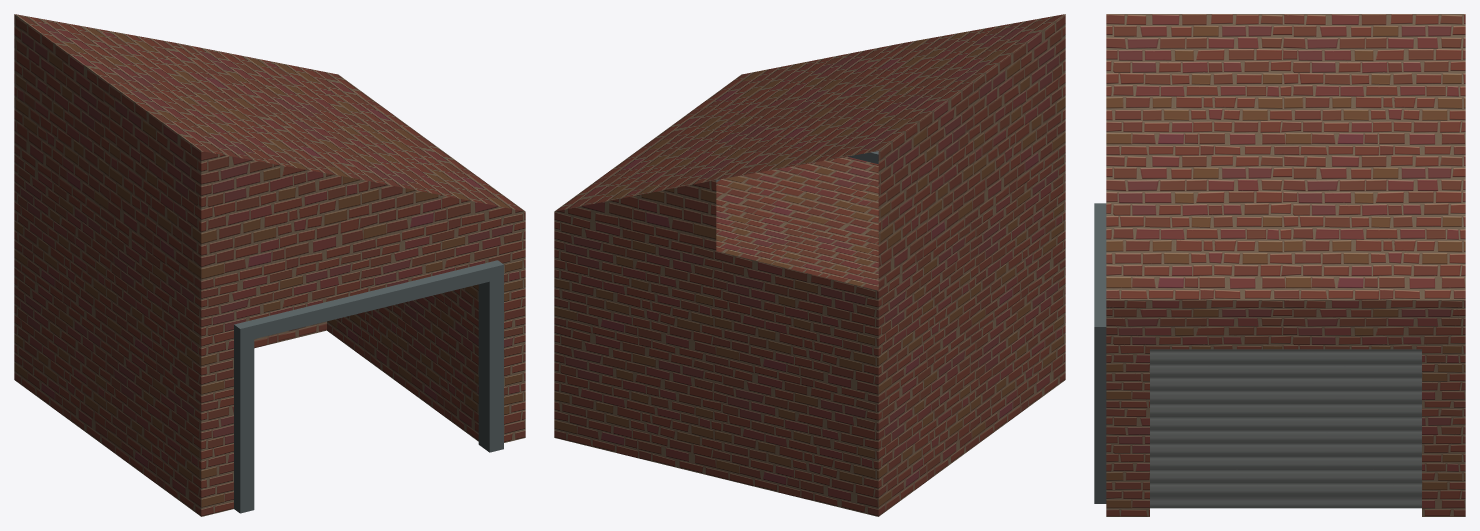
Rendered from Bock_A5.fbx.
3 views of the same model, side by side, from view 1: azimuth 30°, elevation 25°; view 2: azimuth 150°, elevation 25°; view 3: azimuth 270°, elevation 25° (orthographic). The views are drawn at different scales.
Visible parts, largest first — view 1: Bock_A5; view 2: Bock_A5; view 3: Bock_A5.
Boxes of the visible parts, x1=… form: Bock_A5: x1=14, y1=14, x2=525, y2=516; Bock_A5: x1=554, y1=14, x2=1065, y2=516; Bock_A5: x1=1094, y1=14, x2=1465, y2=516.
Size of the model in its own units: 600 by 647 by 620.
1 material, 1 textured.
